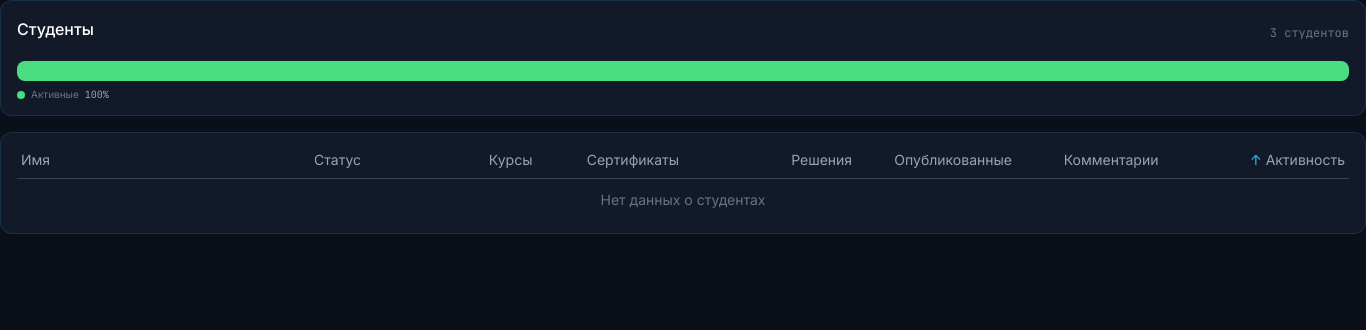
it: Students › sorts by Имя on header click (alphabetical)
This screenshot has width=1366, height=330.
Click the column heading "Имя": (36, 160) [17,149,310,178]
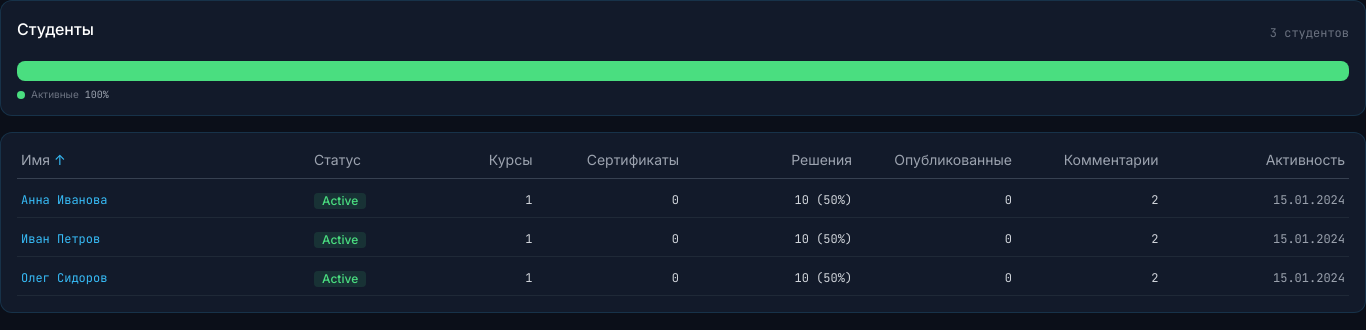
Expected: the link "Анна Иванова" is shown, [21,192,107,208]
Expected: the link "Иван Петров" is shown, [21,231,100,247]
Expected: the link "Олег Сидоров" is shown, [21,270,107,286]
